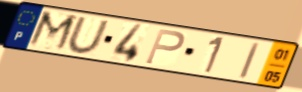1: (203, 36, 226, 75)
4: (111, 22, 145, 65)
I: (237, 41, 262, 81)
M: (24, 9, 81, 54)
P: (143, 27, 187, 66)
U: (65, 16, 111, 57)
